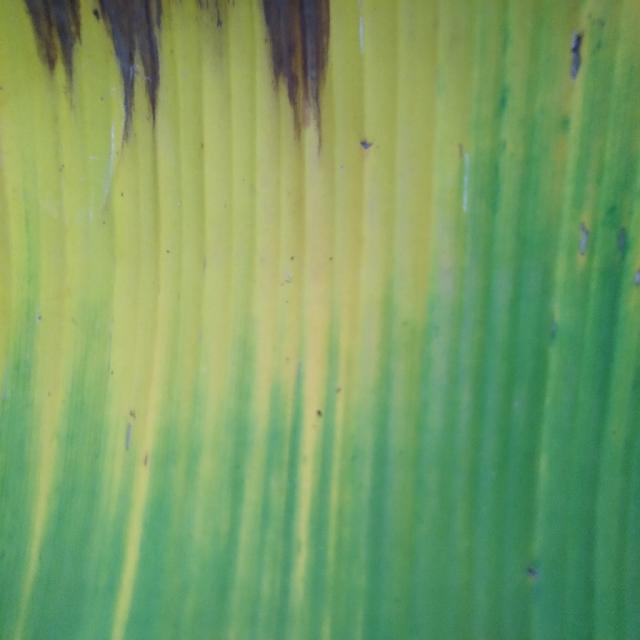Cordana: (2, 0, 594, 640)
